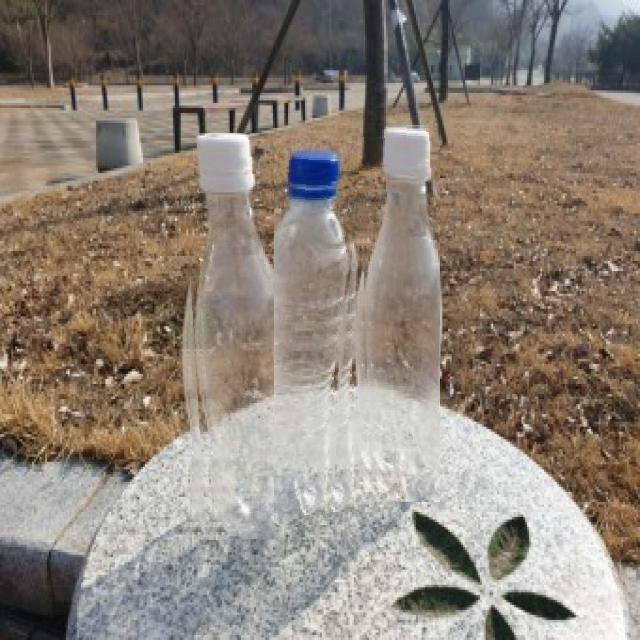plastic bottle: (182, 133, 274, 540), (274, 153, 360, 525), (358, 123, 440, 502)
